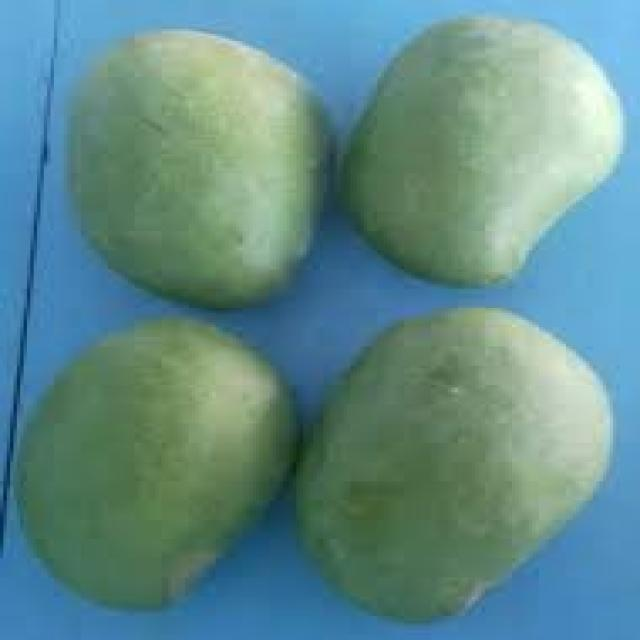Mango: (293, 303, 613, 621), (10, 313, 300, 612), (336, 12, 624, 286), (64, 26, 330, 308)
